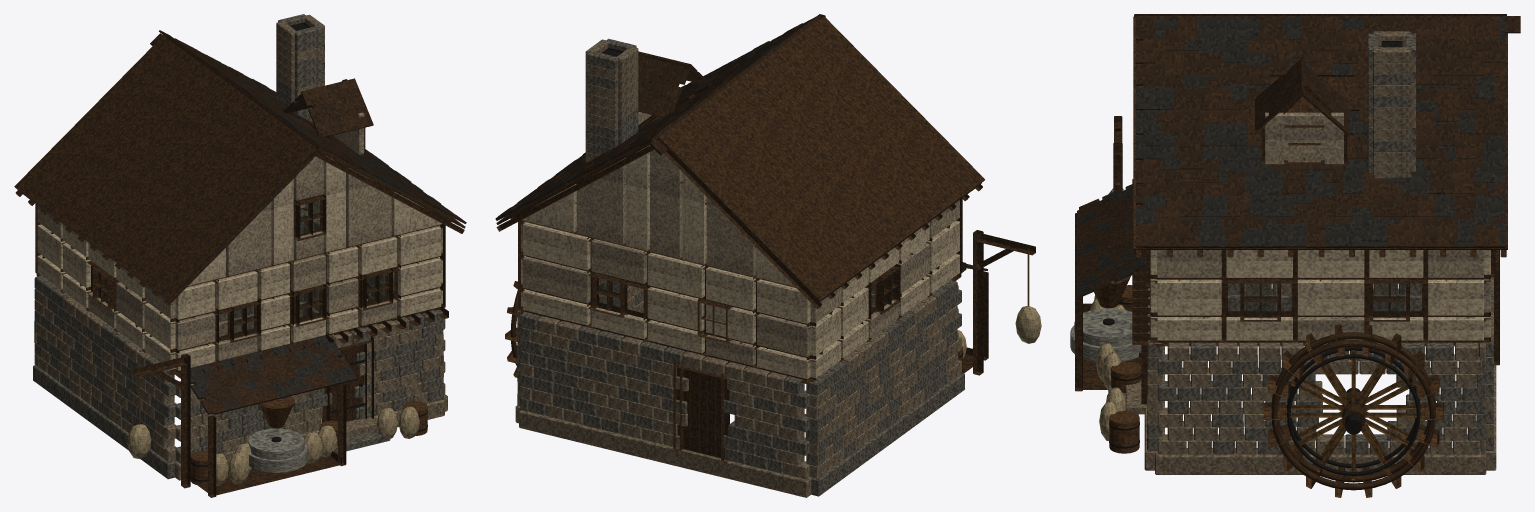
File: medieval_mill_house_3d_runtime.glb
3 views of the same model, side by side, from view 1: azimuth 30°, elevation 25°; view 2: azimuth 150°, elevation 25°; view 3: azimuth 270°, elevation 25° (orthographic). The views are drawn at different scales.
Parts seen in each view (by area): view 1: RUNTIME_BATCH_010_MAT_MILL_OAK_DARK, RUNTIME_BATCH_017_MAT_MILL_PLASTER_AGED, RUNTIME_BATCH_004_MAT_MILL_STONE_WARM, RUNTIME_BATCH_005_MAT_MILL_STONE_DARK, RUNTIME_BATCH_022_MAT_MILL_PLASTER_WORN, RUNTIME_BATCH_002_MAT_MILL_STONE_DARK, RUNTIME_BATCH_019_MAT_MILL_PLASTER_AGED, RUNTIME_BATCH_006_MAT_MILL_OAK_DARK, RUNTIME_BATCH_003_MAT_MILL_STONE_WARM, RUNTIME_BATCH_021_MAT_MILL_PLASTER_AGED, RUNTIME_BATCH_018_MAT_MILL_PLASTER_WORN, RUNTIME_BATCH_027_MAT_MILL_SHINGLE_A (+24 smaller); view 2: RUNTIME_BATCH_010_MAT_MILL_OAK_DARK, RUNTIME_BATCH_019_MAT_MILL_PLASTER_AGED, RUNTIME_BATCH_004_MAT_MILL_STONE_WARM, RUNTIME_BATCH_005_MAT_MILL_STONE_DARK, RUNTIME_BATCH_020_MAT_MILL_PLASTER_WORN, RUNTIME_BATCH_022_MAT_MILL_PLASTER_WORN, RUNTIME_BATCH_021_MAT_MILL_PLASTER_AGED, RUNTIME_BATCH_000_MAT_MILL_STONE_WARM, RUNTIME_BATCH_027_MAT_MILL_SHINGLE_A, RUNTIME_BATCH_007_MAT_MILL_OAK_DARK, RUNTIME_BATCH_029_MAT_MILL_SHINGLE_B, RUNTIME_BATCH_014_MAT_MILL_STONE_WARM (+8 smaller); view 3: RUNTIME_BATCH_027_MAT_MILL_SHINGLE_A, RUNTIME_BATCH_028_MAT_MILL_SHINGLE_C, RUNTIME_BATCH_029_MAT_MILL_SHINGLE_B, RUNTIME_BATCH_019_MAT_MILL_PLASTER_AGED, RUNTIME_BATCH_004_MAT_MILL_STONE_WARM, RUNTIME_BATCH_005_MAT_MILL_STONE_DARK, RUNTIME_BATCH_000_MAT_MILL_STONE_WARM, RUNTIME_BATCH_039_MAT_MILL_MECHANISM_WOOD, RUNTIME_BATCH_020_MAT_MILL_PLASTER_WORN, RUNTIME_BATCH_007_MAT_MILL_OAK_DARK, RUNTIME_BATCH_014_MAT_MILL_STONE_WARM, RUNTIME_BATCH_010_MAT_MILL_OAK_DARK (+27 smaller).
Boxes of the visible parts, left/top/right/bottom form: RUNTIME_BATCH_010_MAT_MILL_OAK_DARK: left=14, top=34, right=465, bottom=305; RUNTIME_BATCH_017_MAT_MILL_PLASTER_AGED: left=175, top=226, right=441, bottom=370; RUNTIME_BATCH_004_MAT_MILL_STONE_WARM: left=34, top=210, right=445, bottom=461; RUNTIME_BATCH_005_MAT_MILL_STONE_DARK: left=34, top=209, right=445, bottom=451; RUNTIME_BATCH_022_MAT_MILL_PLASTER_WORN: left=226, top=112, right=391, bottom=275; RUNTIME_BATCH_002_MAT_MILL_STONE_DARK: left=175, top=309, right=443, bottom=463; RUNTIME_BATCH_019_MAT_MILL_PLASTER_AGED: left=37, top=200, right=442, bottom=369; RUNTIME_BATCH_006_MAT_MILL_OAK_DARK: left=171, top=224, right=448, bottom=378; RUNTIME_BATCH_003_MAT_MILL_STONE_WARM: left=175, top=317, right=443, bottom=452; RUNTIME_BATCH_021_MAT_MILL_PLASTER_AGED: left=188, top=155, right=441, bottom=285; RUNTIME_BATCH_018_MAT_MILL_PLASTER_WORN: left=175, top=254, right=397, bottom=360; RUNTIME_BATCH_027_MAT_MILL_SHINGLE_A: left=30, top=30, right=453, bottom=292; RUNTIME_BATCH_010_MAT_MILL_OAK_DARK: left=496, top=14, right=984, bottom=309; RUNTIME_BATCH_019_MAT_MILL_PLASTER_AGED: left=521, top=220, right=959, bottom=379; RUNTIME_BATCH_004_MAT_MILL_STONE_WARM: left=517, top=278, right=961, bottom=479; RUNTIME_BATCH_005_MAT_MILL_STONE_DARK: left=517, top=280, right=961, bottom=473; RUNTIME_BATCH_020_MAT_MILL_PLASTER_WORN: left=521, top=200, right=959, bottom=365; RUNTIME_BATCH_022_MAT_MILL_PLASTER_WORN: left=576, top=111, right=755, bottom=276; RUNTIME_BATCH_021_MAT_MILL_PLASTER_AGED: left=522, top=145, right=794, bottom=286; RUNTIME_BATCH_000_MAT_MILL_STONE_WARM: left=515, top=405, right=811, bottom=497; RUNTIME_BATCH_027_MAT_MILL_SHINGLE_A: left=499, top=15, right=969, bottom=298; RUNTIME_BATCH_007_MAT_MILL_OAK_DARK: left=518, top=198, right=962, bottom=384; RUNTIME_BATCH_029_MAT_MILL_SHINGLE_B: left=498, top=16, right=981, bottom=302; RUNTIME_BATCH_014_MAT_MILL_STONE_WARM: left=585, top=39, right=638, bottom=162; RUNTIME_BATCH_027_MAT_MILL_SHINGLE_A: left=1136, top=16, right=1520, bottom=247; RUNTIME_BATCH_028_MAT_MILL_SHINGLE_C: left=1136, top=17, right=1505, bottom=247; RUNTIME_BATCH_029_MAT_MILL_SHINGLE_B: left=1136, top=16, right=1505, bottom=247; RUNTIME_BATCH_019_MAT_MILL_PLASTER_AGED: left=1157, top=250, right=1490, bottom=340; RUNTIME_BATCH_004_MAT_MILL_STONE_WARM: left=1157, top=278, right=1493, bottom=454; RUNTIME_BATCH_005_MAT_MILL_STONE_DARK: left=1157, top=277, right=1493, bottom=454; RUNTIME_BATCH_000_MAT_MILL_STONE_WARM: left=1144, top=346, right=1496, bottom=474; RUNTIME_BATCH_039_MAT_MILL_MECHANISM_WOOD: left=1282, top=350, right=1424, bottom=480; RUNTIME_BATCH_020_MAT_MILL_PLASTER_WORN: left=1157, top=250, right=1490, bottom=340; RUNTIME_BATCH_007_MAT_MILL_OAK_DARK: left=1151, top=250, right=1490, bottom=346; RUNTIME_BATCH_014_MAT_MILL_STONE_WARM: left=1367, top=31, right=1415, bottom=178; RUNTIME_BATCH_010_MAT_MILL_OAK_DARK: left=1133, top=14, right=1507, bottom=257.
Size of the model in its own units: 11.64 by 9.84 by 9.79.
16 materials, 16 textured.
